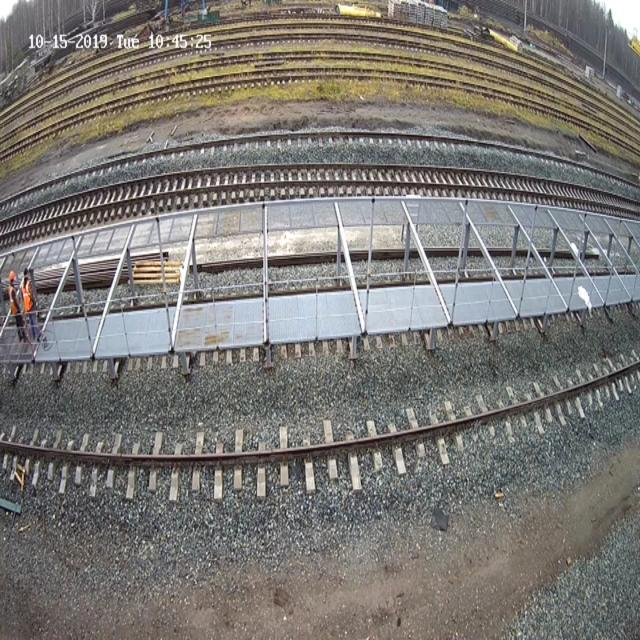Helmet: (9, 270, 16, 282), (23, 267, 29, 276)
Person: (19, 267, 40, 342), (8, 270, 27, 342)
